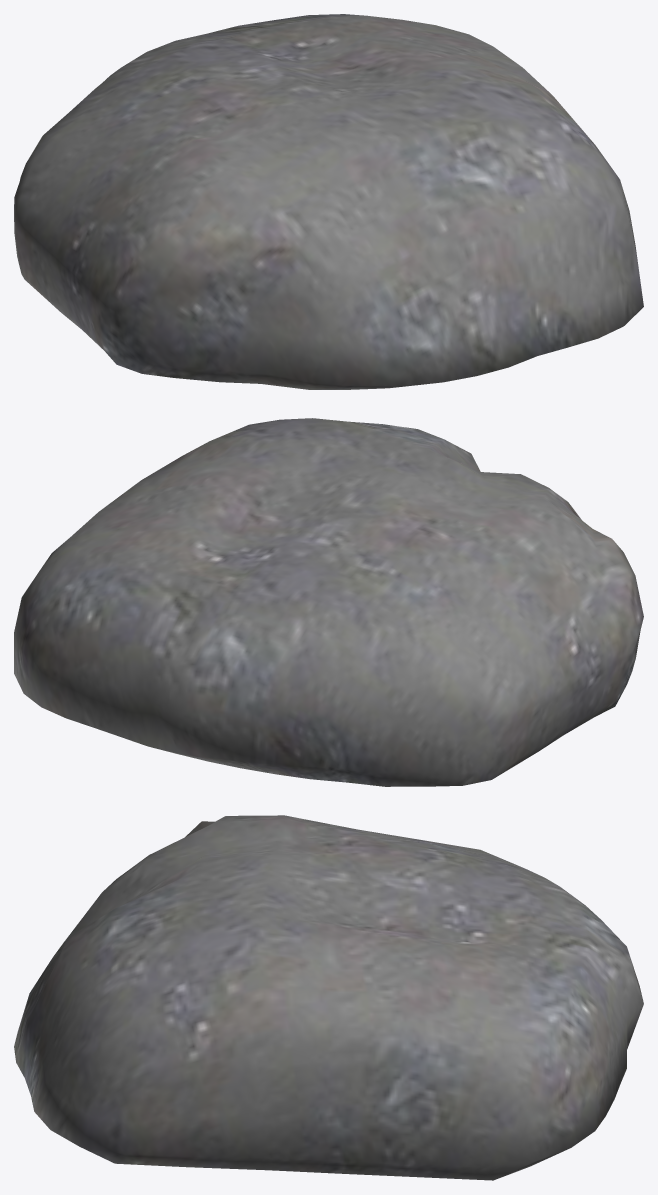
File: SM_Sun_Pal_Stone_A.fbx
The picture shows the model from 3 angles, top to bottom: view 1: azimuth 30°, elevation 25°; view 2: azimuth 150°, elevation 25°; view 3: azimuth 270°, elevation 25°; orthographic projection. The views are drawn at different scales.
Visible parts, largest first — view 1: SM_Sun_Pal_Stone_A; view 2: SM_Sun_Pal_Stone_A; view 3: SM_Sun_Pal_Stone_A.
Boxes of the visible parts, bbox=[...] form: SM_Sun_Pal_Stone_A: bbox=[14, 14, 643, 389]; SM_Sun_Pal_Stone_A: bbox=[14, 418, 643, 786]; SM_Sun_Pal_Stone_A: bbox=[14, 815, 643, 1180].
Bounding box in the file's own units: 68.95 × 25.4 × 75.26.
